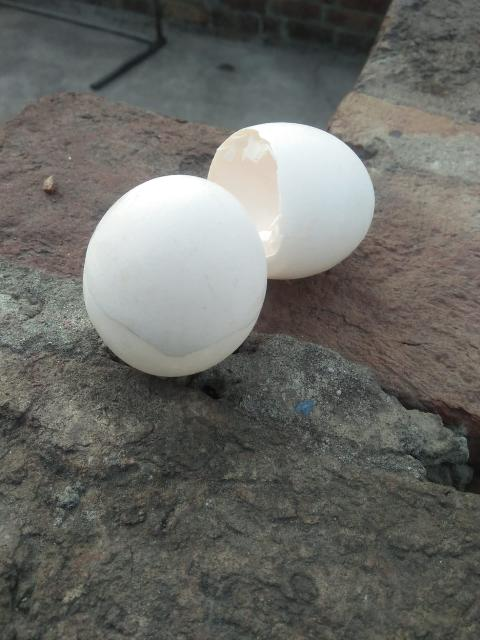Roto: (82, 173, 268, 378), (206, 120, 376, 280)
